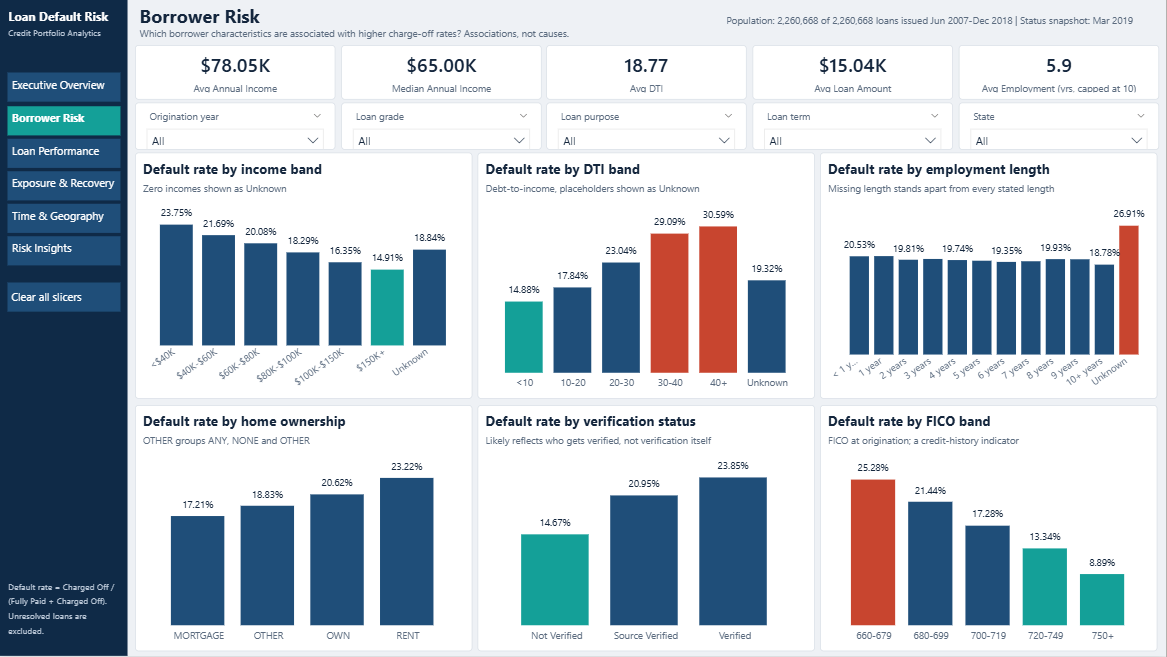

The dashboard page shown, as its layout file describes it:
{"tool":"powerbi","page":{"name":"Borrower Risk","canvas":[1280,720],"ordinal":1},"visuals":[{"type":"textbox","box":[0,0,140,720],"z":0},{"type":"textbox","box":[4,4,134,72],"z":1000},{"type":"textbox","box":[8,80,124,32],"z":2000},{"type":"actionButton","box":[8,80,124,32],"z":3000},{"type":"textbox","box":[8,116,124,32],"z":4000},{"type":"actionButton","box":[8,116,124,32],"z":5000},{"type":"textbox","box":[8,152,124,32],"z":6000},{"type":"actionButton","box":[8,152,124,32],"z":7000},{"type":"textbox","box":[8,188,124,32],"z":8000},{"type":"actionButton","box":[8,188,124,32],"z":9000},{"type":"textbox","box":[8,224,124,32],"z":10000},{"type":"actionButton","box":[8,224,124,32],"z":11000},{"type":"textbox","box":[8,260,124,32],"z":12000},{"type":"actionButton","box":[8,260,124,32],"z":13000},{"type":"textbox","box":[8,310,124,32],"z":14000},{"type":"actionButton","box":[8,310,124,32],"z":15000},{"type":"textbox","box":[4,630,134,86],"z":16000},{"type":"textbox","box":[148,-2,620,40],"z":17000},{"type":"textbox","box":[148,24,720,26],"z":18000},{"type":"card","fields":{"Values":["fact_loans.Scope Label"]},"box":[770,6,502,40],"z":19000},{"type":"card","fields":{"Values":["fact_loans.Average Annual Income"]},"box":[148,50,220,60],"z":20000},{"type":"card","fields":{"Values":["fact_loans.Median Annual Income"]},"box":[374,50,220,60],"z":21000},{"type":"card","fields":{"Values":["fact_loans.Average DTI"]},"box":[600,50,220,60],"z":22000},{"type":"card","fields":{"Values":["fact_loans.Average Loan Amount"]},"box":[826,50,220,60],"z":23000},{"type":"card","fields":{"Values":["fact_loans.Average Employment Length"]},"box":[1052,50,220,60],"z":24000},{"type":"slicer","fields":{"Values":["dim_date.issue_year"]},"box":[148,112,220,52],"z":25000},{"type":"slicer","fields":{"Values":["dim_grade.grade"]},"box":[374,112,220,52],"z":26000},{"type":"slicer","fields":{"Values":["dim_purpose.purpose_label"]},"box":[600,112,220,52],"z":27000},{"type":"slicer","fields":{"Values":["dim_term.term_label"]},"box":[826,112,220,52],"z":28000},{"type":"slicer","fields":{"Values":["dim_state.state_name"]},"box":[1052,112,220,52],"z":29000},{"type":"clusteredColumnChart","title":"Default rate by income band","fields":{"Category":["dim_income_band.income_band"],"Y":["fact_loans.Historical Default Rate"]},"box":[148,168,370,270],"z":30000},{"type":"clusteredColumnChart","title":"Default rate by DTI band","fields":{"Category":["dim_dti_band.dti_band"],"Y":["fact_loans.Historical Default Rate"]},"box":[524,168,370,270],"z":31000},{"type":"clusteredColumnChart","title":"Default rate by employment length","fields":{"Category":["dim_emp_length.emp_length_label"],"Y":["fact_loans.Historical Default Rate"]},"box":[900,168,370,270],"z":32000},{"type":"clusteredColumnChart","title":"Default rate by home ownership","fields":{"Category":["dim_home_ownership.home_ownership_group"],"Y":["fact_loans.Historical Default Rate"]},"box":[148,444,370,270],"z":33000},{"type":"clusteredColumnChart","title":"Default rate by verification status","fields":{"Category":["dim_verification.verification_status"],"Y":["fact_loans.Historical Default Rate"]},"box":[524,444,370,270],"z":34000},{"type":"clusteredColumnChart","title":"Default rate by FICO band","fields":{"Category":["dim_fico_band.fico_band"],"Y":["fact_loans.Historical Default Rate"]},"box":[900,444,370,270],"z":35000}]}

Visuals, with their boxes on the page's 1280x720 design canvas (x1, y1, x2, y2). These are canvas units, not pixel positions in the 1167x657 screenshot, which may show the page scaled, cropped or inside an application window:
textbox: rect(0, 0, 140, 720)
textbox: rect(4, 4, 138, 76)
textbox: rect(8, 80, 132, 112)
actionButton: rect(8, 80, 132, 112)
textbox: rect(8, 116, 132, 148)
actionButton: rect(8, 116, 132, 148)
textbox: rect(8, 152, 132, 184)
actionButton: rect(8, 152, 132, 184)
textbox: rect(8, 188, 132, 220)
actionButton: rect(8, 188, 132, 220)
textbox: rect(8, 224, 132, 256)
actionButton: rect(8, 224, 132, 256)
textbox: rect(8, 260, 132, 292)
actionButton: rect(8, 260, 132, 292)
textbox: rect(8, 310, 132, 342)
actionButton: rect(8, 310, 132, 342)
textbox: rect(4, 630, 138, 716)
textbox: rect(148, -2, 768, 38)
textbox: rect(148, 24, 868, 50)
card - fact_loans.Scope Label: rect(770, 6, 1272, 46)
card - fact_loans.Average Annual Income: rect(148, 50, 368, 110)
card - fact_loans.Median Annual Income: rect(374, 50, 594, 110)
card - fact_loans.Average DTI: rect(600, 50, 820, 110)
card - fact_loans.Average Loan Amount: rect(826, 50, 1046, 110)
card - fact_loans.Average Employment Length: rect(1052, 50, 1272, 110)
slicer - dim_date.issue_year: rect(148, 112, 368, 164)
slicer - dim_grade.grade: rect(374, 112, 594, 164)
slicer - dim_purpose.purpose_label: rect(600, 112, 820, 164)
slicer - dim_term.term_label: rect(826, 112, 1046, 164)
slicer - dim_state.state_name: rect(1052, 112, 1272, 164)
"Default rate by income band" clusteredColumnChart: rect(148, 168, 518, 438)
"Default rate by DTI band" clusteredColumnChart: rect(524, 168, 894, 438)
"Default rate by employment length" clusteredColumnChart: rect(900, 168, 1270, 438)
"Default rate by home ownership" clusteredColumnChart: rect(148, 444, 518, 714)
"Default rate by verification status" clusteredColumnChart: rect(524, 444, 894, 714)
"Default rate by FICO band" clusteredColumnChart: rect(900, 444, 1270, 714)
